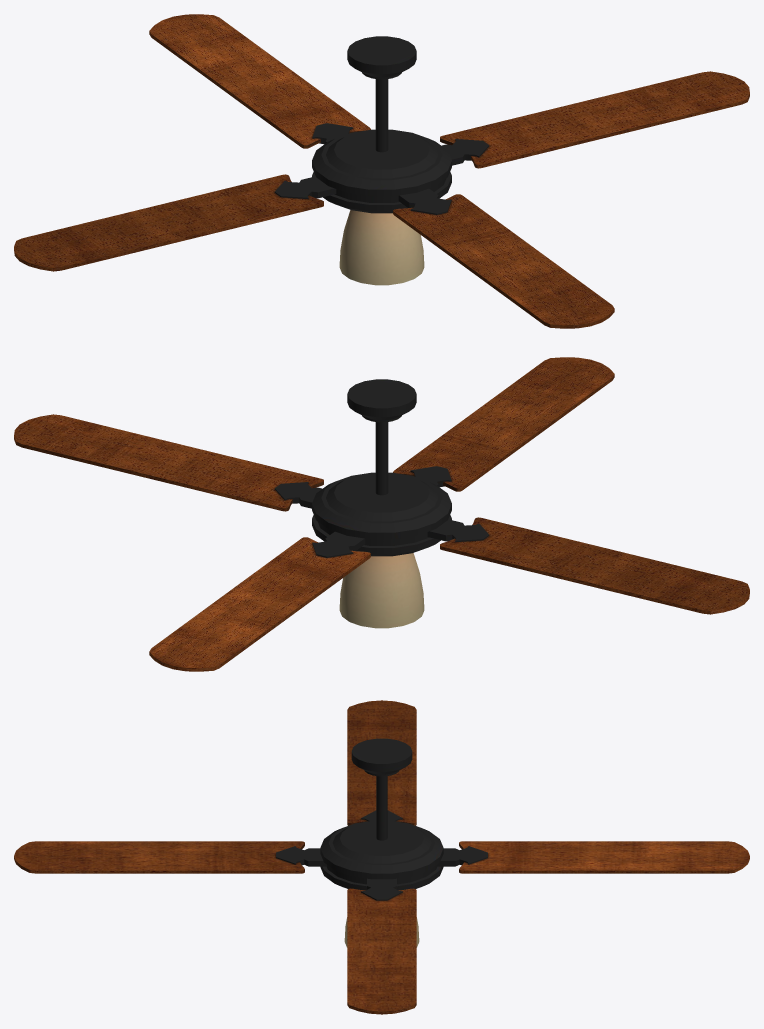
The model's file is ceiling_fan.glb.
The picture shows the model from 3 angles, top to bottom: view 1: azimuth 30°, elevation 25°; view 2: azimuth 150°, elevation 25°; view 3: azimuth 270°, elevation 25°; orthographic projection. The views are drawn at different scales.
Visible parts, largest first — view 1: Fan-Blades, Fan_Center, Lightbulb_Cover, Fan_Blade_Supports, Fan_Support, Fan_Support_Shaft; view 2: Fan-Blades, Fan_Center, Lightbulb_Cover, Fan_Blade_Supports, Fan_Support, Fan_Support_Shaft; view 3: Fan-Blades, Fan_Center, Fan_Blade_Supports, Fan_Support, Fan_Support_Shaft.
Boxes of the visible parts, <box> form: Fan-Blades: <box>14,14,749,328</box>; Fan_Center: <box>312,129,451,213</box>; Lightbulb_Cover: <box>339,210,424,285</box>; Fan_Blade_Supports: <box>274,123,489,214</box>; Fan_Support: <box>347,36,416,79</box>; Fan_Support_Shaft: <box>375,79,388,152</box>; Fan-Blades: <box>14,357,749,671</box>; Fan_Center: <box>312,472,451,556</box>; Lightbulb_Cover: <box>339,553,424,628</box>; Fan_Blade_Supports: <box>274,466,489,557</box>; Fan_Support: <box>347,379,416,422</box>; Fan_Support_Shaft: <box>375,422,388,495</box>; Fan-Blades: <box>14,700,749,1014</box>; Fan_Center: <box>320,820,443,890</box>; Fan_Blade_Supports: <box>276,810,487,900</box>; Fan_Support: <box>351,738,412,776</box>; Fan_Support_Shaft: <box>376,776,387,840</box>.
Size of the model in its own units: 459 by 131 by 459.
1 material, 1 textured.
